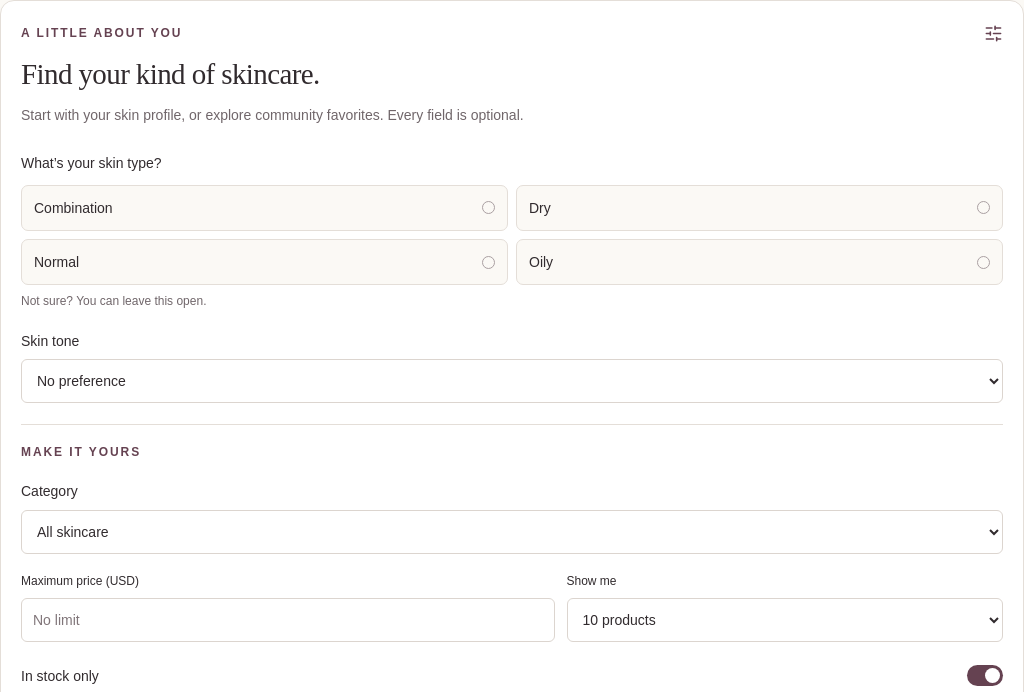
Scenario: personalization › prevents negative budgets even when native validation is bypassed
Type "-1" into the number field labelled "Maximum price (USD)".
click(288, 620); type("-1")  # box 21,598 -> 554,642
(page scrolled)
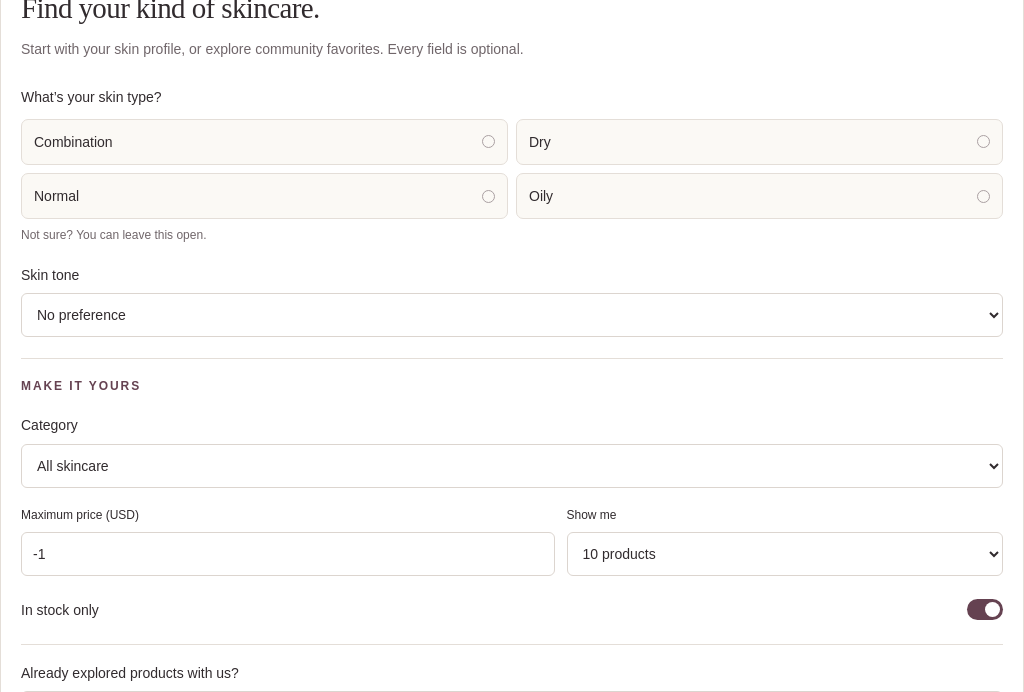
Submit the form
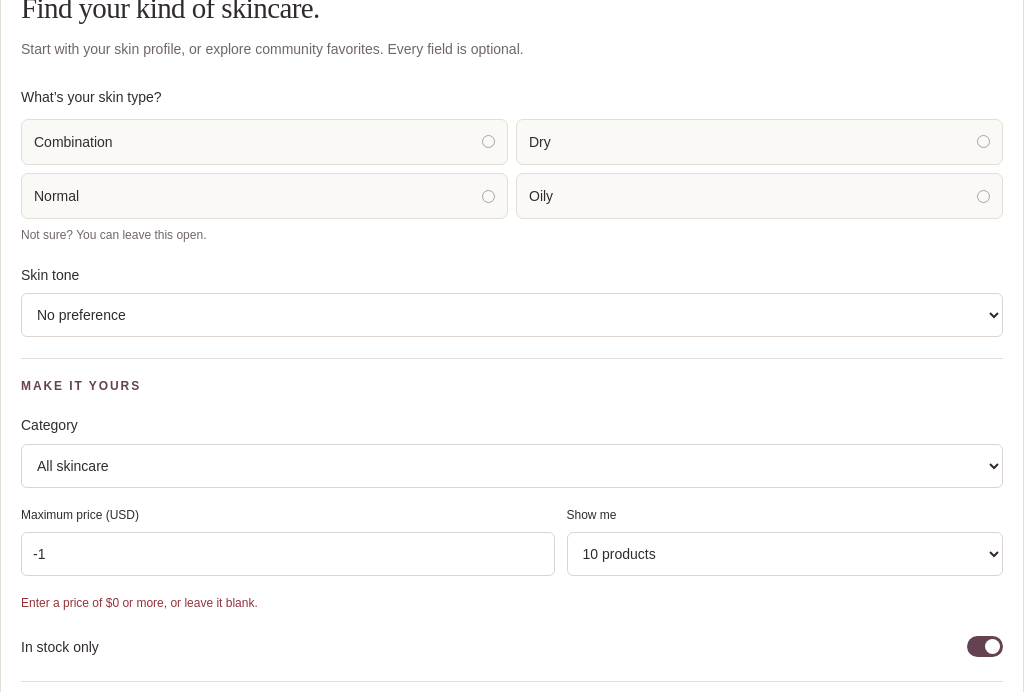
Expected: the message shows "$0 or more", 21,596 -> 258,610
